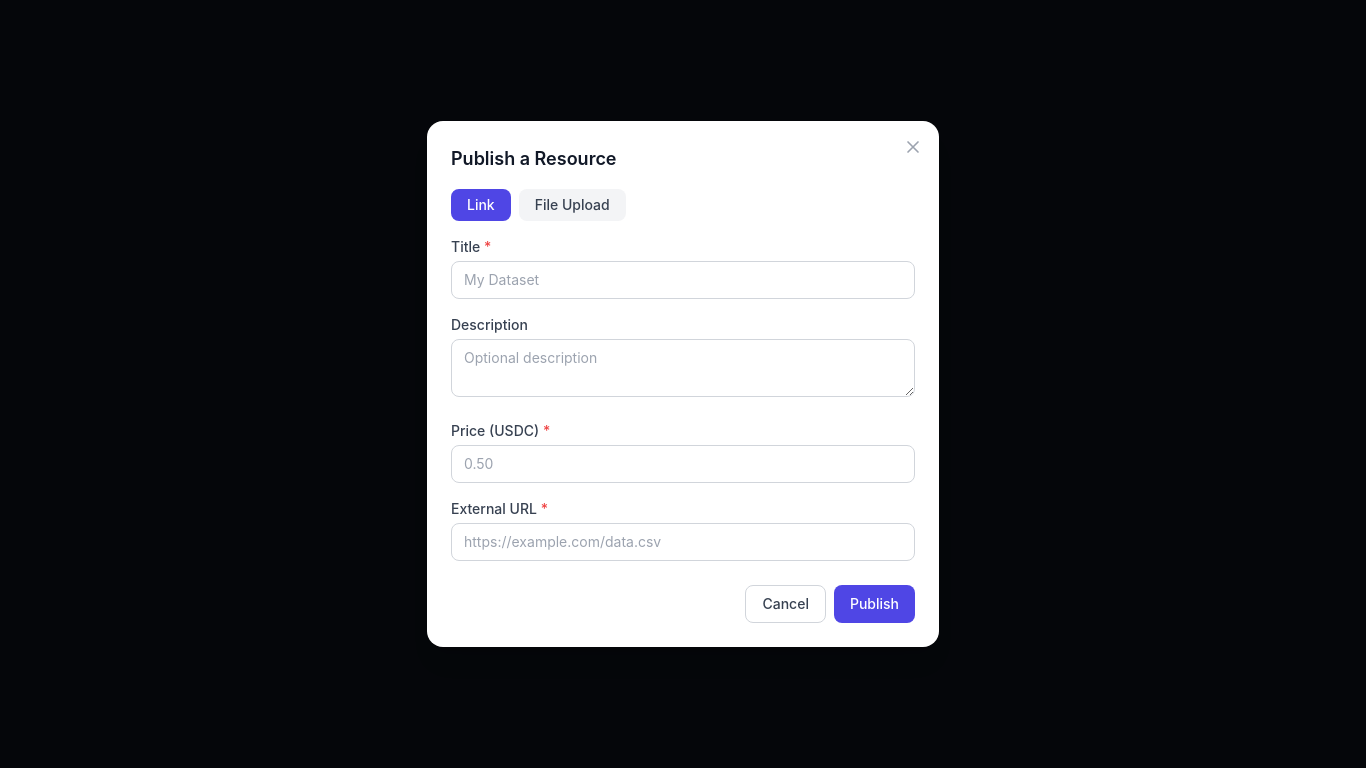
Test case: PublishModal › switches to file upload mode and shows the file input
Expected: the field labelled "External URL *" is shown, [451,523,915,561]
Click the button "File Upload" at (572,205), box [519,189,626,221]
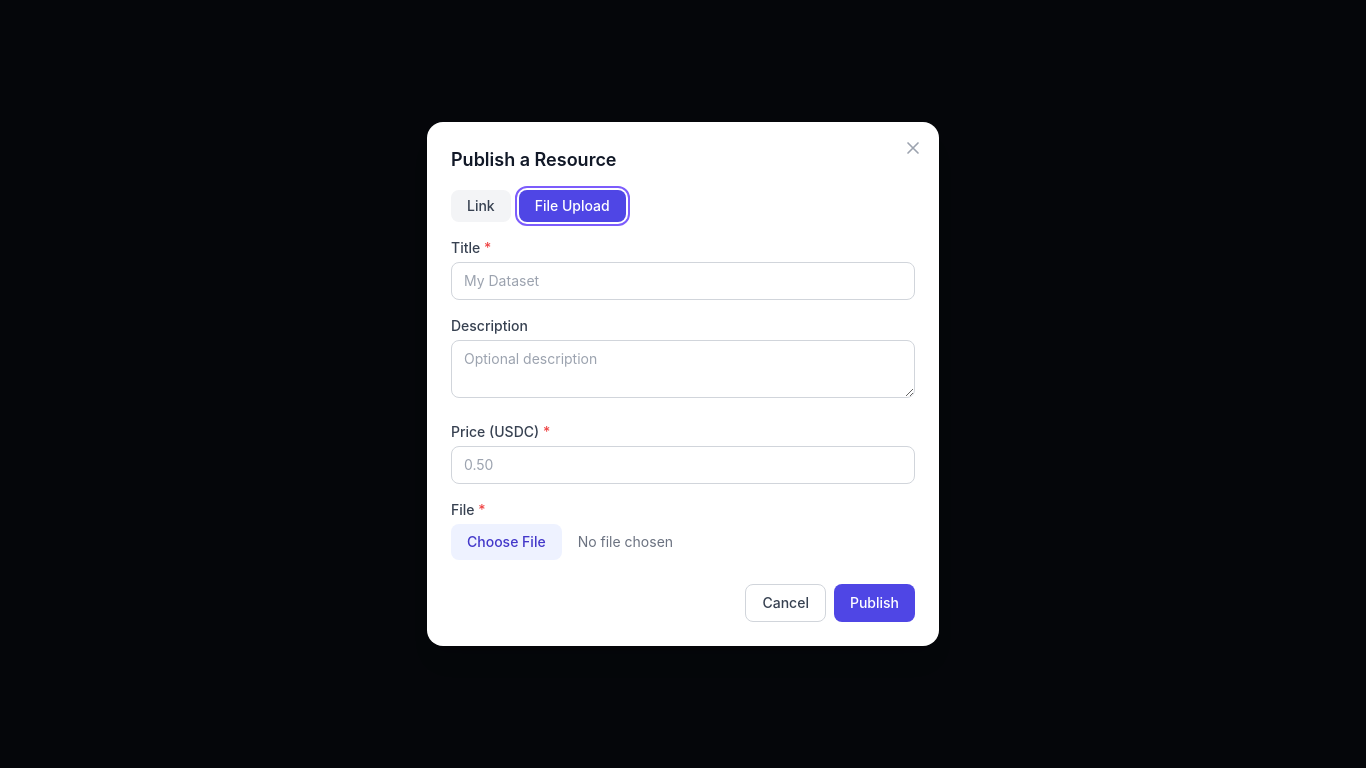
Expected: the file field named "external url" is shown, [451,524,915,560]
Expected: the field labelled "External URL" is gone
